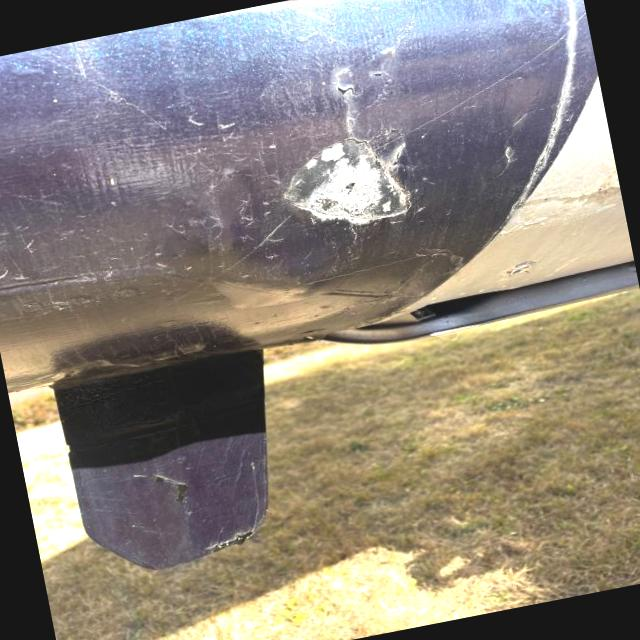crack: (328, 66, 410, 106)
dent: (268, 130, 420, 238)
